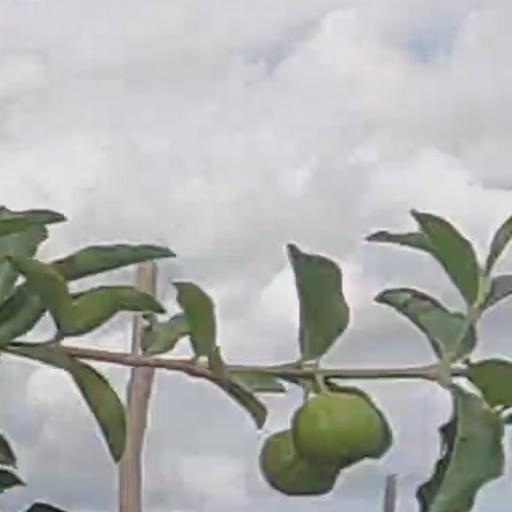acerola_verde: (295, 394, 382, 463), (263, 435, 334, 493)
